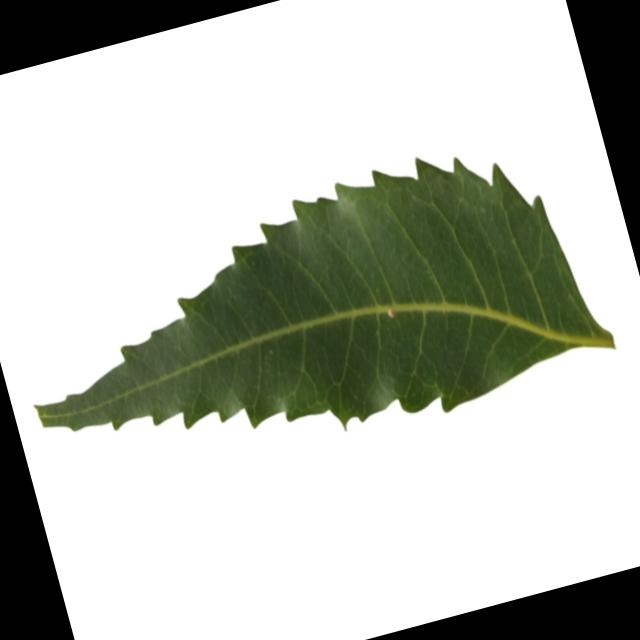Medicinal-Neem: (0, 116, 619, 515)
